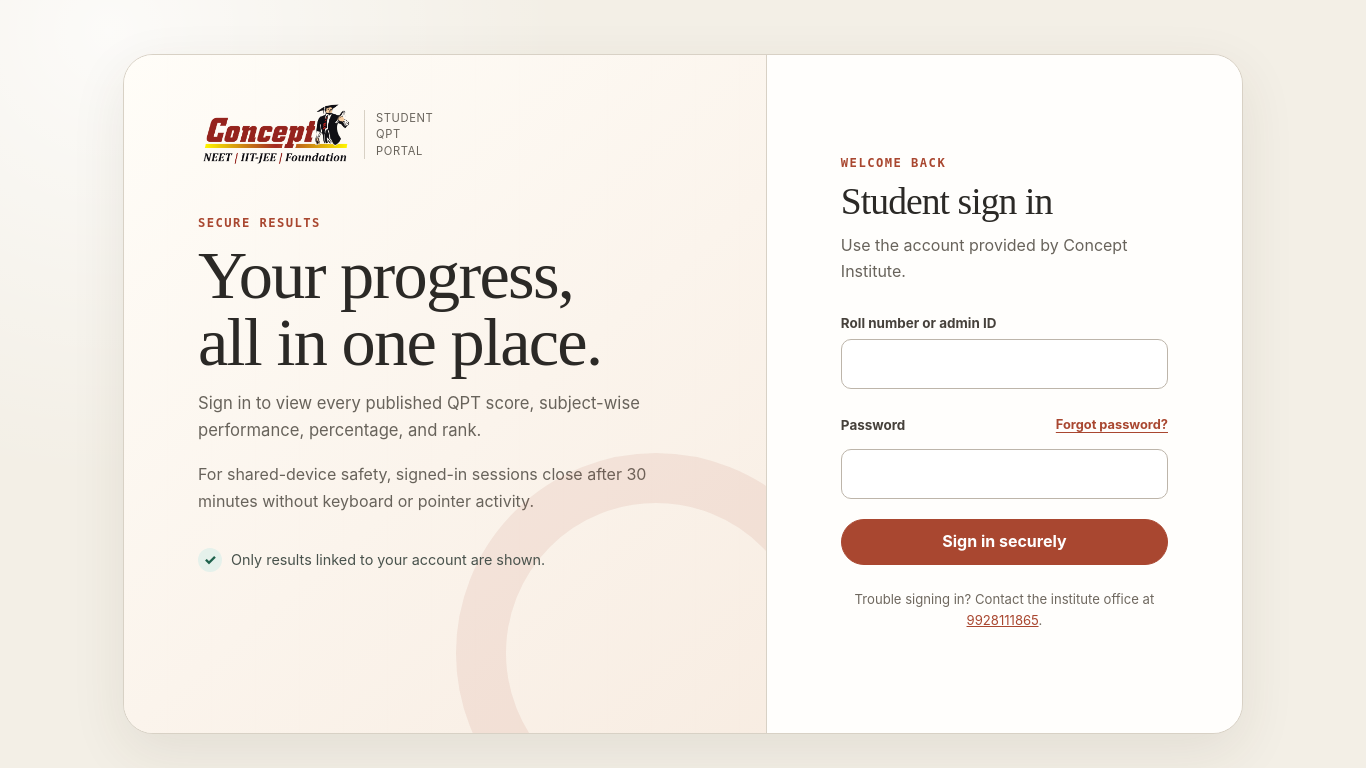
it: student portal › signs in with an accessible roll-number and password form
Expected: the picture named "Concept Institute" is shown, [198, 103, 352, 166]
Type "0012" into the field labelled "Roll number or admin ID" at (1004, 364), box [841, 338, 1168, 388]
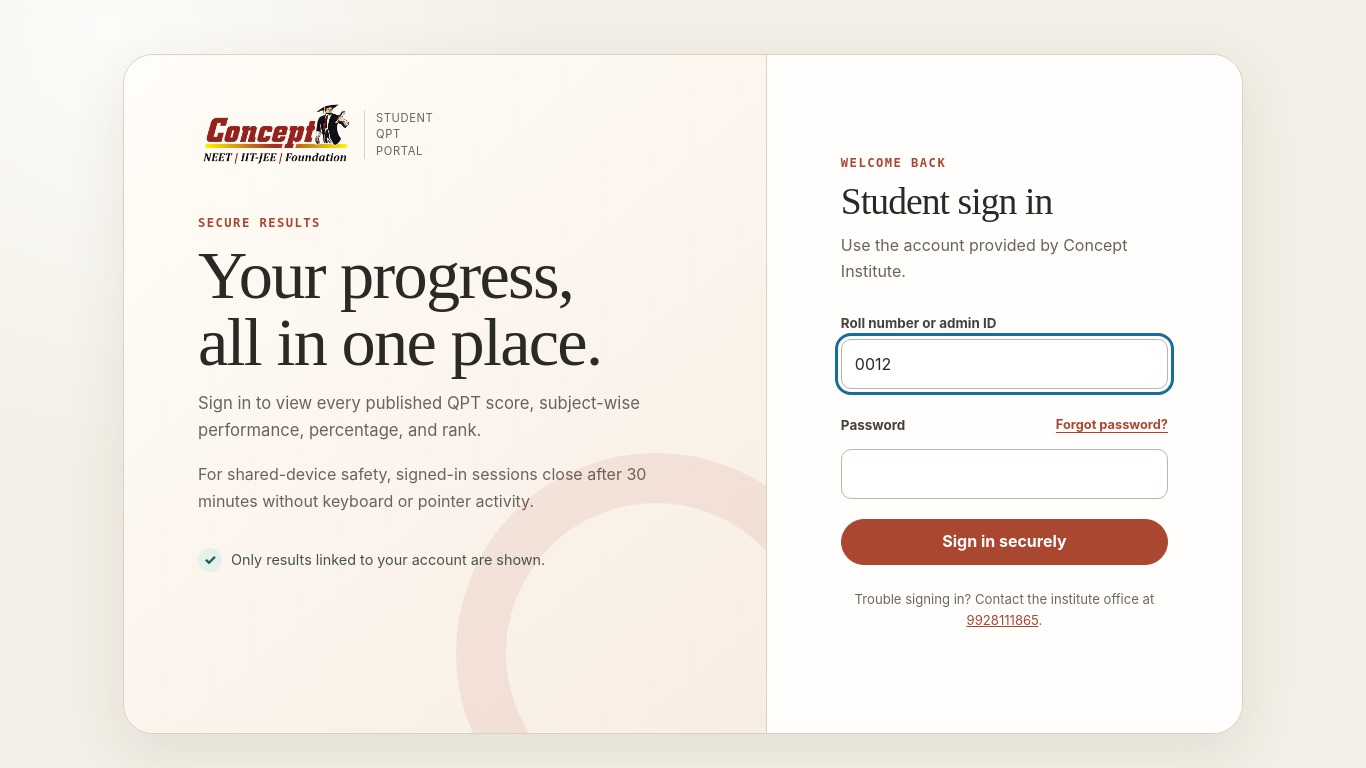
Type "secure-password" into the password field labelled "Password" at (1004, 474), box [841, 448, 1168, 498]
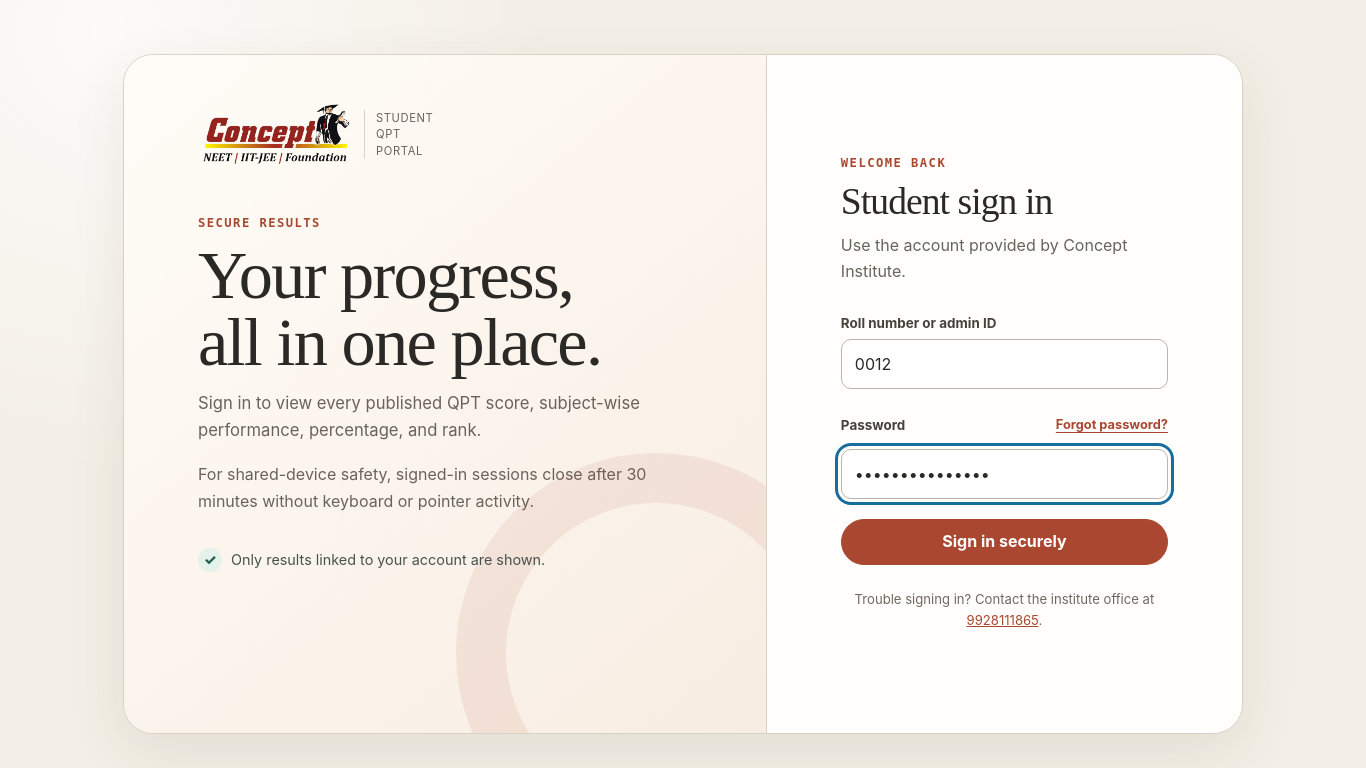
Click the button "Sign in securely" at (1004, 542), box [841, 518, 1168, 564]
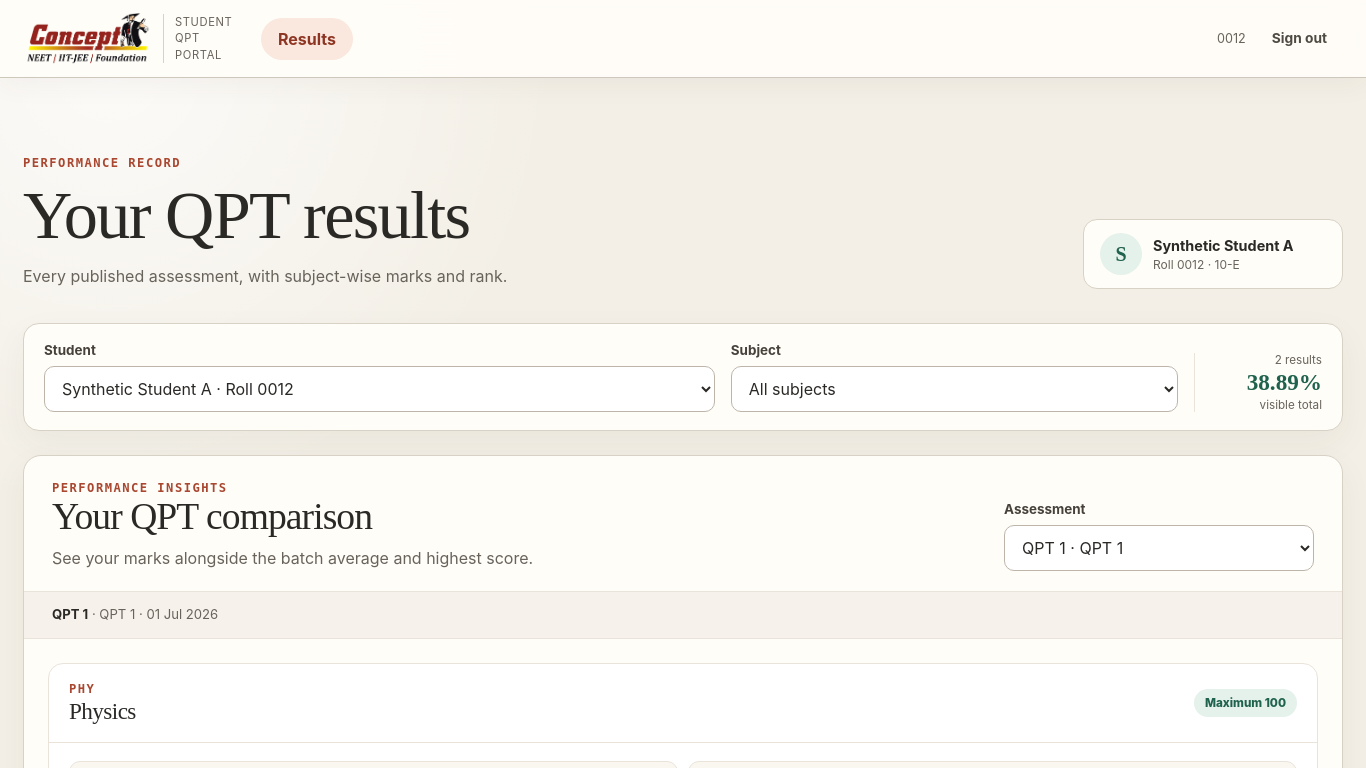
Expected: the picture named "Concept Institute" is shown, [23, 12, 151, 65]
Expected: the heading "Your QPT results" is shown, [23, 182, 507, 249]
